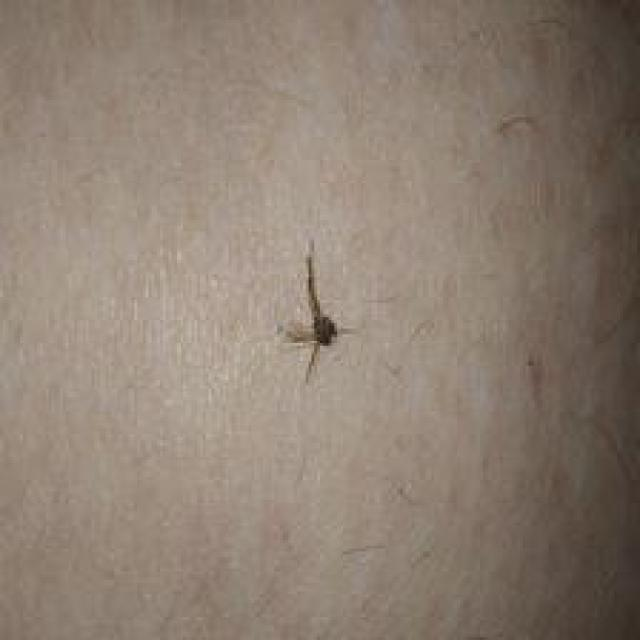Culex: (276, 237, 353, 383)
